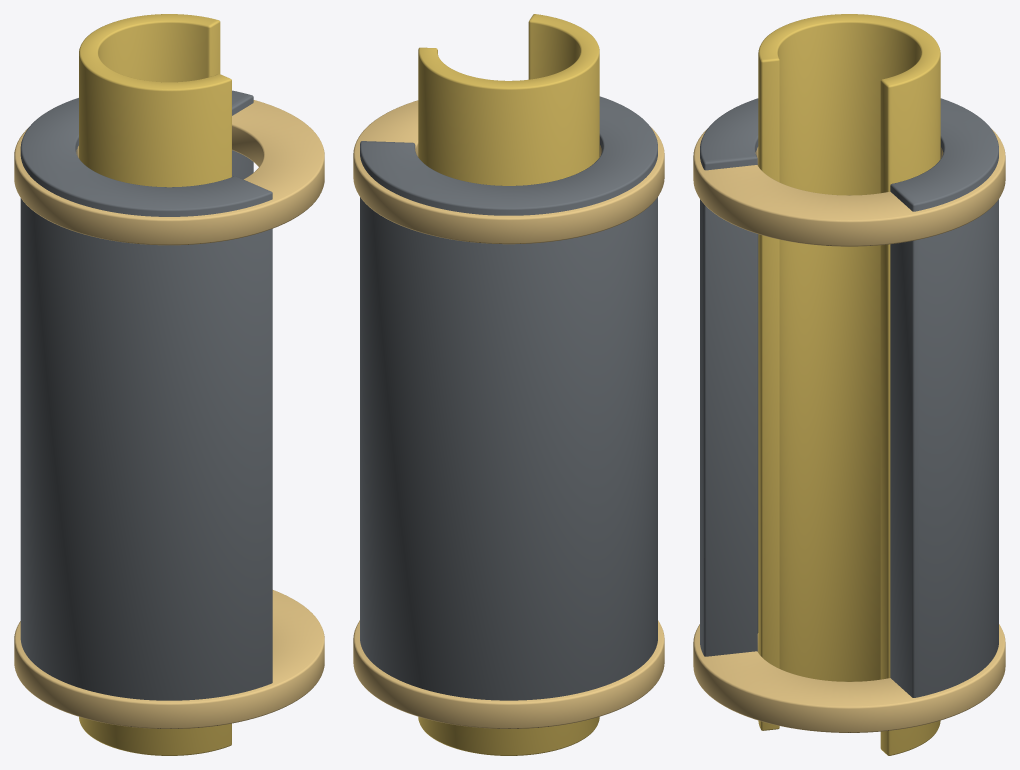
Rendered from blast-joint.glb.
3 views of the same model, side by side, from view 1: azimuth 30°, elevation 25°; view 2: azimuth 150°, elevation 25°; view 3: azimuth 270°, elevation 25° (orthographic).
Visible parts, largest first — view 1: Hardened blast jacket, Tubing core, Brass wear band, Brass wear band.001; view 2: Hardened blast jacket, Tubing core, Brass wear band, Brass wear band.001; view 3: Tubing core, Hardened blast jacket, Brass wear band, Brass wear band.001.
Part boxes in pixels (x1,y1,x2,y2): Hardened blast jacket: [20, 90, 272, 700]; Tubing core: [79, 14, 231, 755]; Brass wear band: [14, 100, 324, 245]; Brass wear band.001: [14, 590, 324, 728]; Hardened blast jacket: [360, 96, 657, 700]; Tubing core: [418, 14, 599, 755]; Brass wear band: [353, 100, 664, 244]; Brass wear band.001: [353, 620, 664, 728]; Tubing core: [758, 14, 940, 755]; Hardened blast jacket: [700, 98, 998, 697]; Brass wear band: [693, 128, 1005, 246]; Brass wear band.001: [693, 624, 1005, 732].
Bounding box in the file's own units: 1.92 × 4.55 × 1.92.
